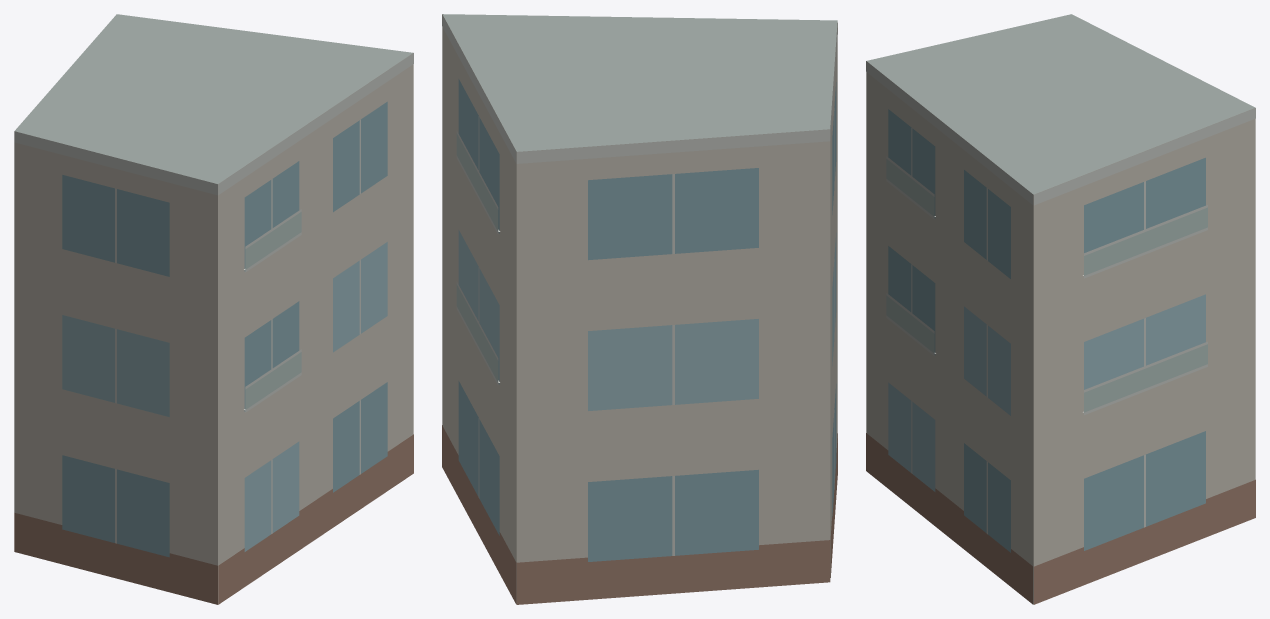
The model's file is survey-upis-32461519.glb.
3 renders of one model, left to right at view 1: azimuth 30°, elevation 25°; view 2: azimuth 150°, elevation 25°; view 3: azimuth 270°, elevation 25°, orthographic. The views are drawn at different scales.
Parts seen in each view (by area): view 1: survey-upis-32461519.tmp; view 2: survey-upis-32461519.tmp; view 3: survey-upis-32461519.tmp.
Part boxes in pixels (left/top/right/bottom): survey-upis-32461519.tmp: left=14, top=14, right=413, bottom=604; survey-upis-32461519.tmp: left=442, top=14, right=837, bottom=604; survey-upis-32461519.tmp: left=866, top=14, right=1255, bottom=604.
Size of the model in its own units: 8.65 by 9.15 by 7.88.
